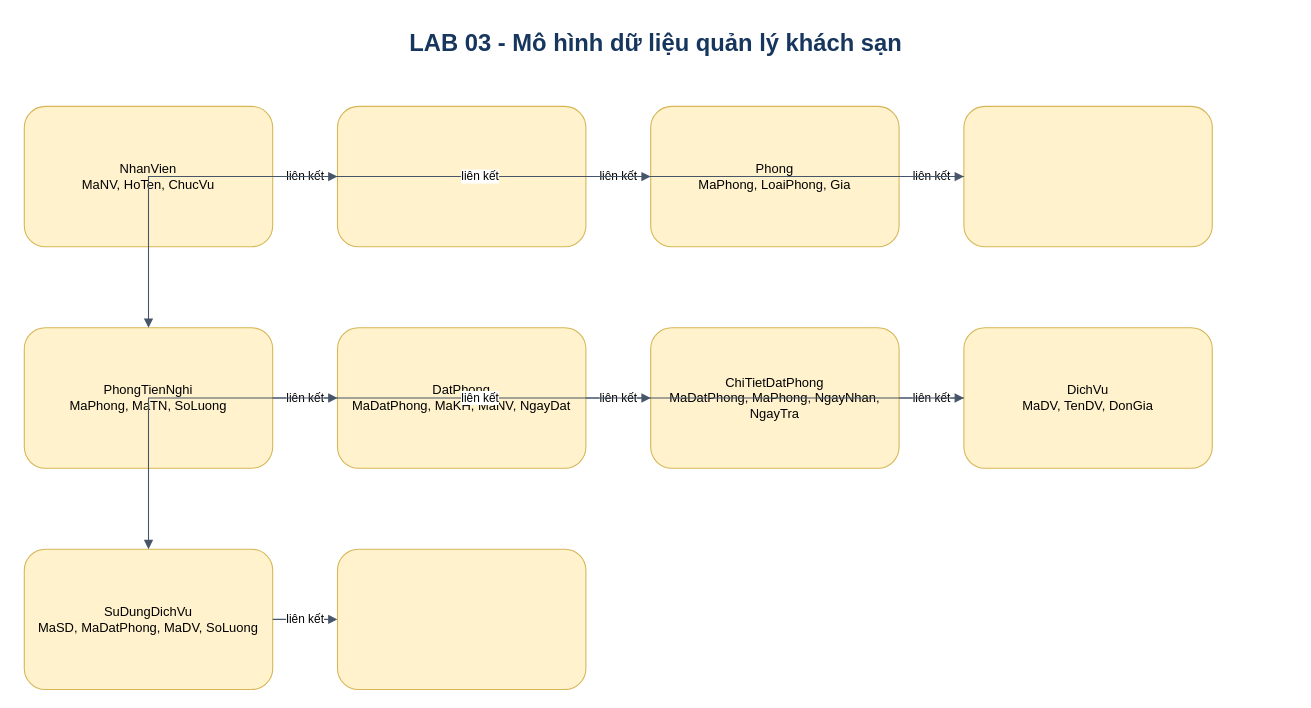
Some shapes in this 1311 by 708 pixel diagram are drawn without their labels. The shapes that lost their labels are listed below. From the top down, each one's centre as x and y in pixels, then its label:
the point at 461,176: KhachHang MaKH, HoTen, SDT
the point at 1087,176: TienNghi MaTN, TenTN
the point at 461,619: HoaDon MaHD, MaDatPhong, TongTien
